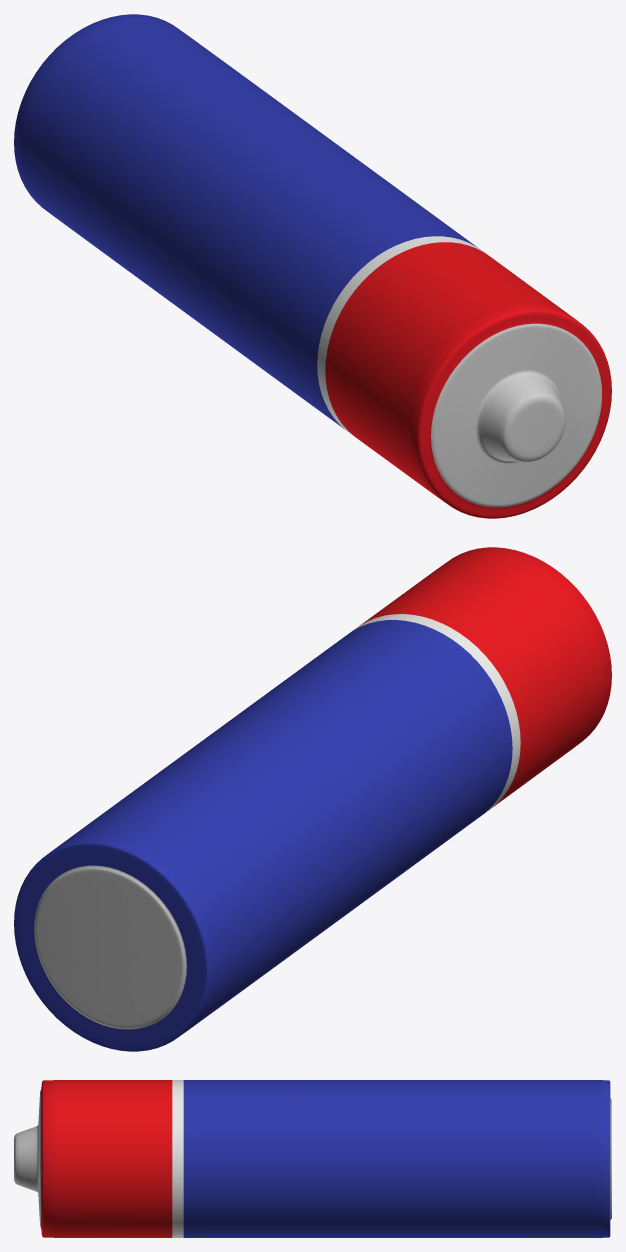
File: Battery.fbx
3 views of the same model, one above another, from view 1: azimuth 30°, elevation 25°; view 2: azimuth 150°, elevation 25°; view 3: azimuth 270°, elevation 25° (orthographic). The views are drawn at different scales.
Parts seen in each view (by area): view 1: Battery; view 2: Battery; view 3: Battery.
Boxes of the visible parts, x1,y1,x2,y2 form: Battery: (14,14,611,518); Battery: (14,547,611,1051); Battery: (14,1080,611,1237).
Bounding box in the file's own units: 19.87 × 19.87 × 75.15.
